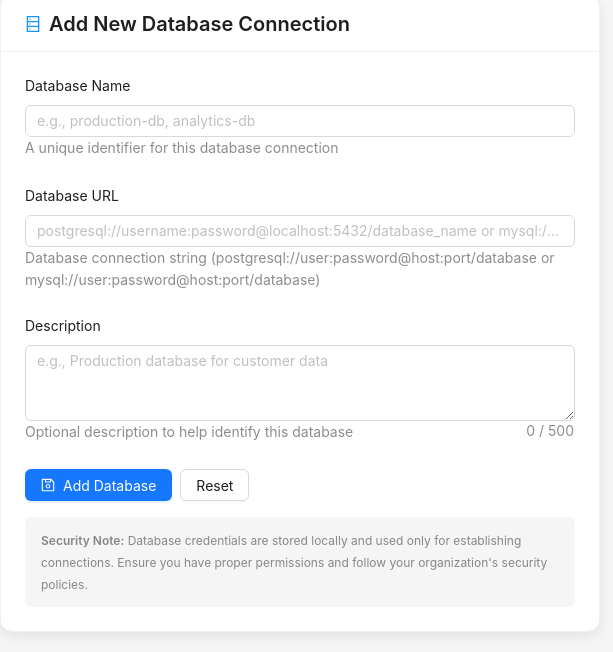
Test: DatabaseForm Component › validates database name format
# Test short name
In the field labelled "Database Name": (300, 121) x1=25 y1=105 x2=575 y2=137, type "a"
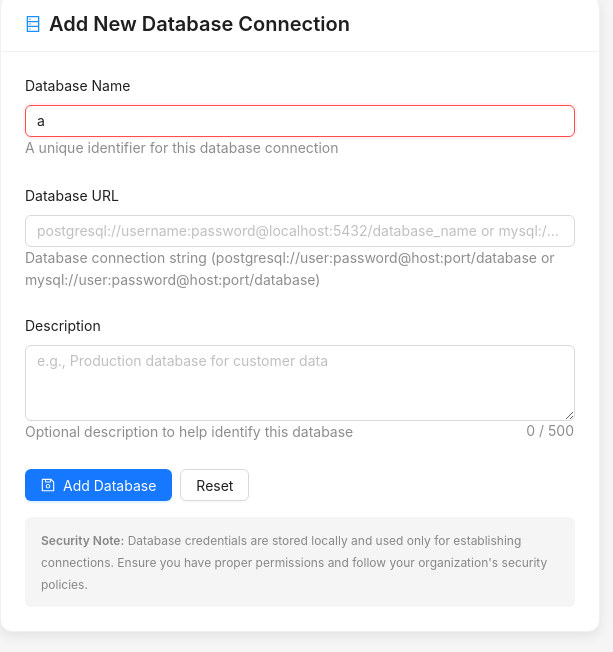
Press Tab
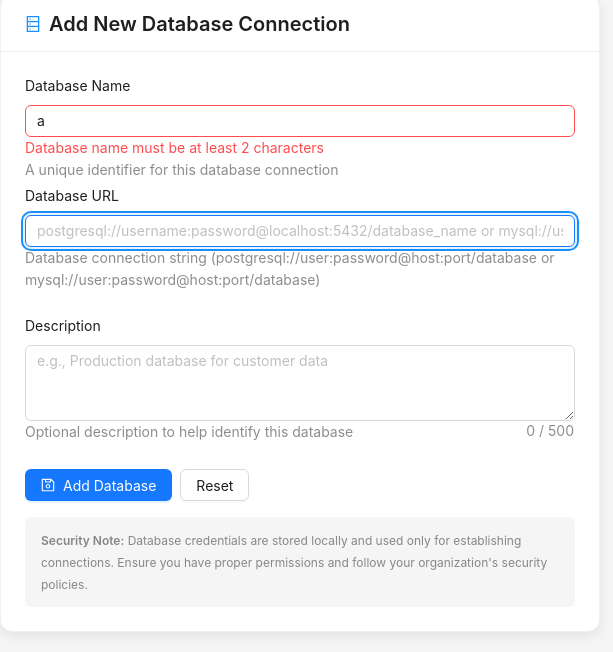
Check: the text "Database name must be at least 2 characters" is shown, box x1=25 y1=139 x2=324 y2=156
# Test invalid characters
Replace the text in the field labelled "Database Name" with "invalid name!": (300, 121) x1=25 y1=105 x2=575 y2=137
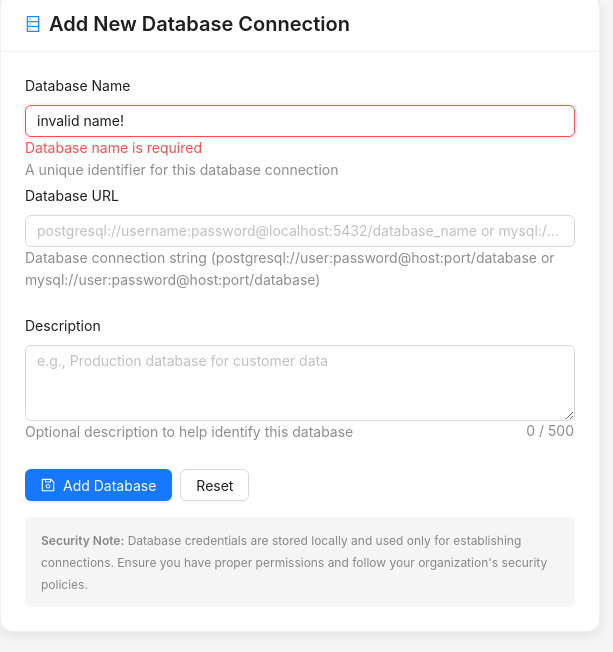
Press Tab
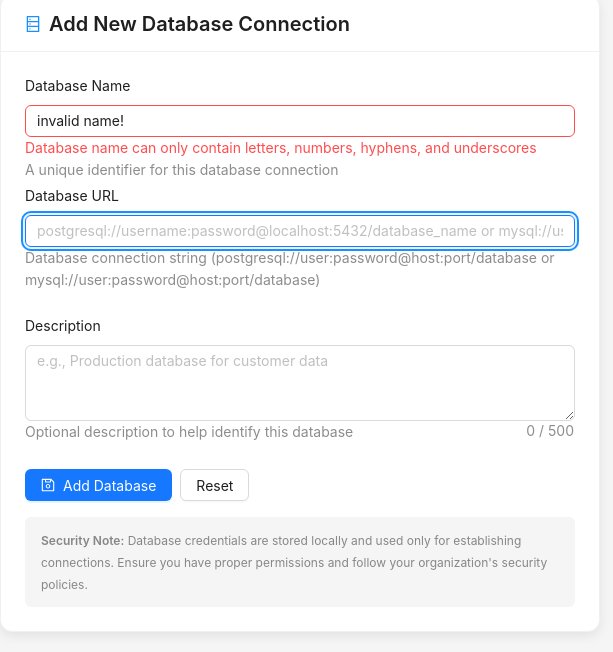
Check: the text "Database name can only contain letters, numbers, hyphens, and underscores" is shown, box x1=25 y1=137 x2=575 y2=159
